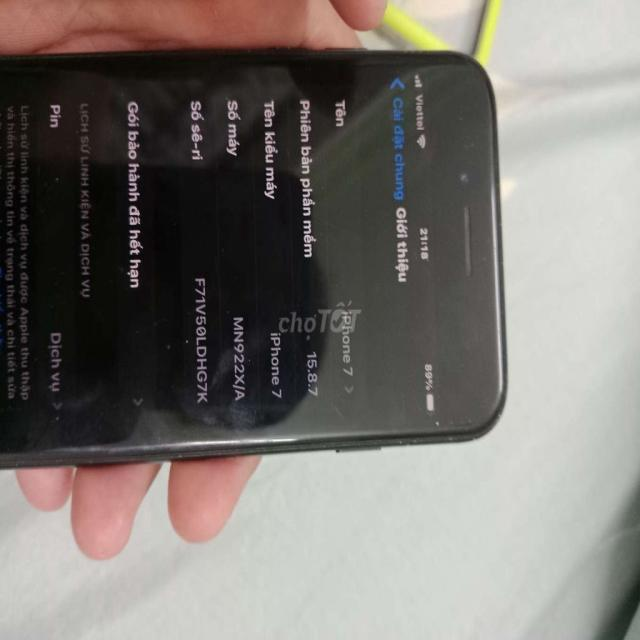gen_7_8: (0, 35, 509, 465)
scratch: (94, 437, 321, 456), (451, 98, 482, 148), (428, 414, 474, 434)
